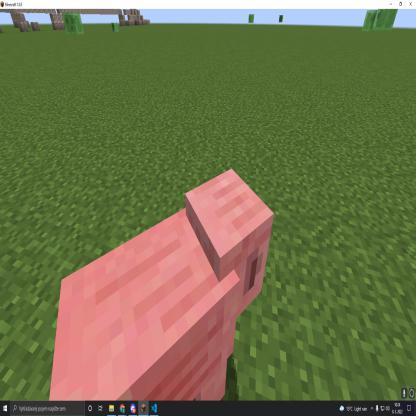pig: (46, 161, 280, 399)
